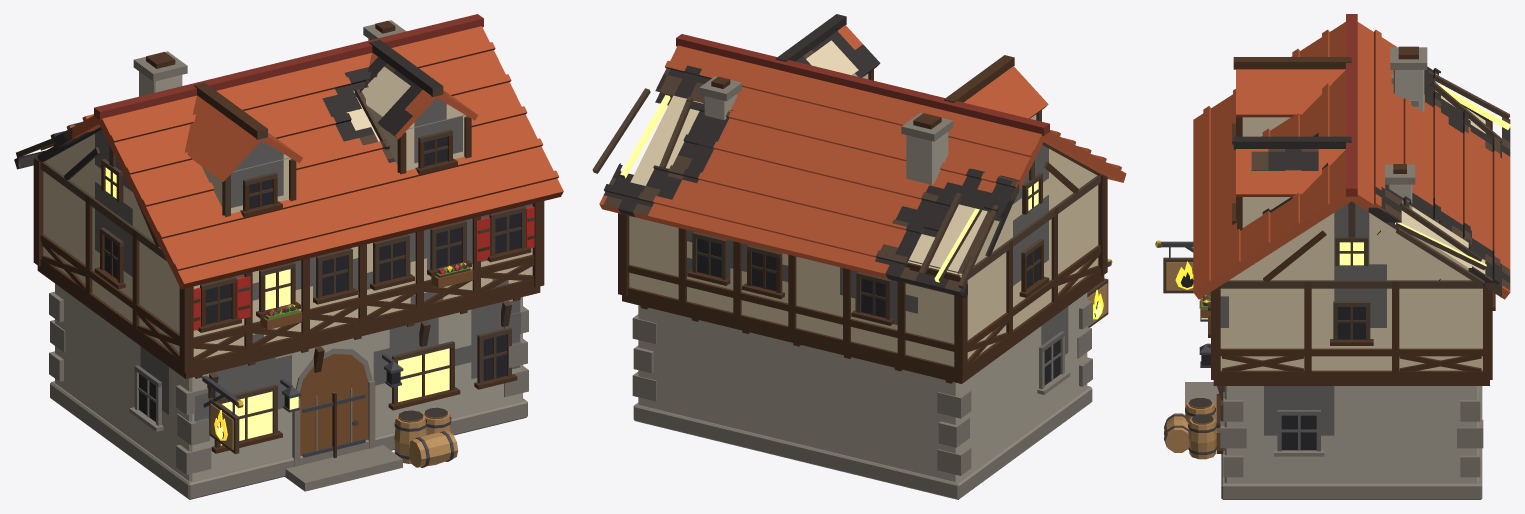
The model's file is Taverne_Beschaedigt.fbx.
3 views of the same model, side by side, from view 1: azimuth 30°, elevation 25°; view 2: azimuth 150°, elevation 25°; view 3: azimuth 270°, elevation 25° (orthographic). The views are drawn at different scales.
Parts seen in each view (by area): view 1: Taverne_Beschaedigt; view 2: Taverne_Beschaedigt; view 3: Taverne_Beschaedigt.
Boxes of the visible parts, <box> form: Taverne_Beschaedigt: <box>14,14,563,499</box>; Taverne_Beschaedigt: <box>592,14,1126,499</box>; Taverne_Beschaedigt: <box>1155,14,1510,499</box>.
Bounding box in the file's own units: 9.89 × 8.25 × 8.1.
